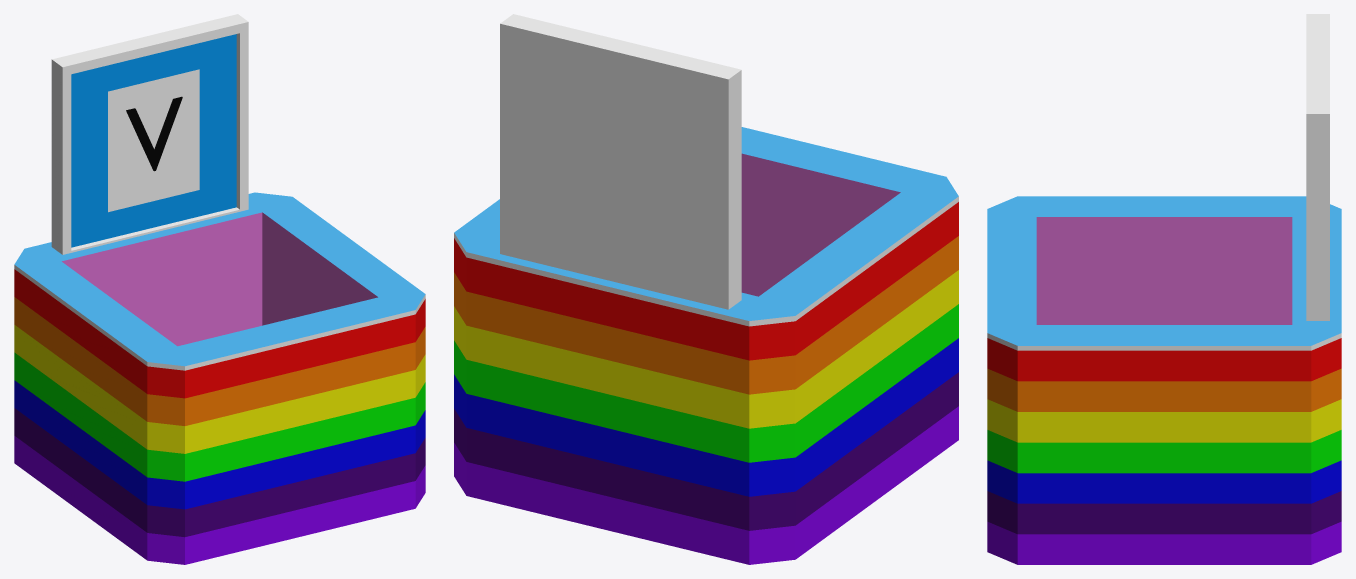
3 views of the same model, side by side, from view 1: azimuth 30°, elevation 25°; view 2: azimuth 150°, elevation 25°; view 3: azimuth 270°, elevation 25° (orthographic). The views are drawn at different scales.
Visible parts, largest first — view 1: Cube.001, Text; view 2: Cube.001; view 3: Cube.001.
Part boxes in pixels (box(x1,y1,x2,y2)): Cube.001: box(14, 14, 425, 564); Text: box(126, 96, 182, 171); Cube.001: box(454, 14, 958, 564); Cube.001: box(987, 14, 1341, 564).
Size of the model in its own units: 383 by 508 by 383.
